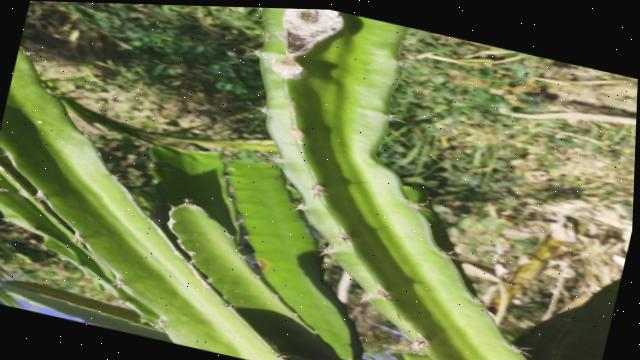stemcanker: (398, 328, 434, 355), (370, 285, 396, 307), (303, 185, 329, 205)
